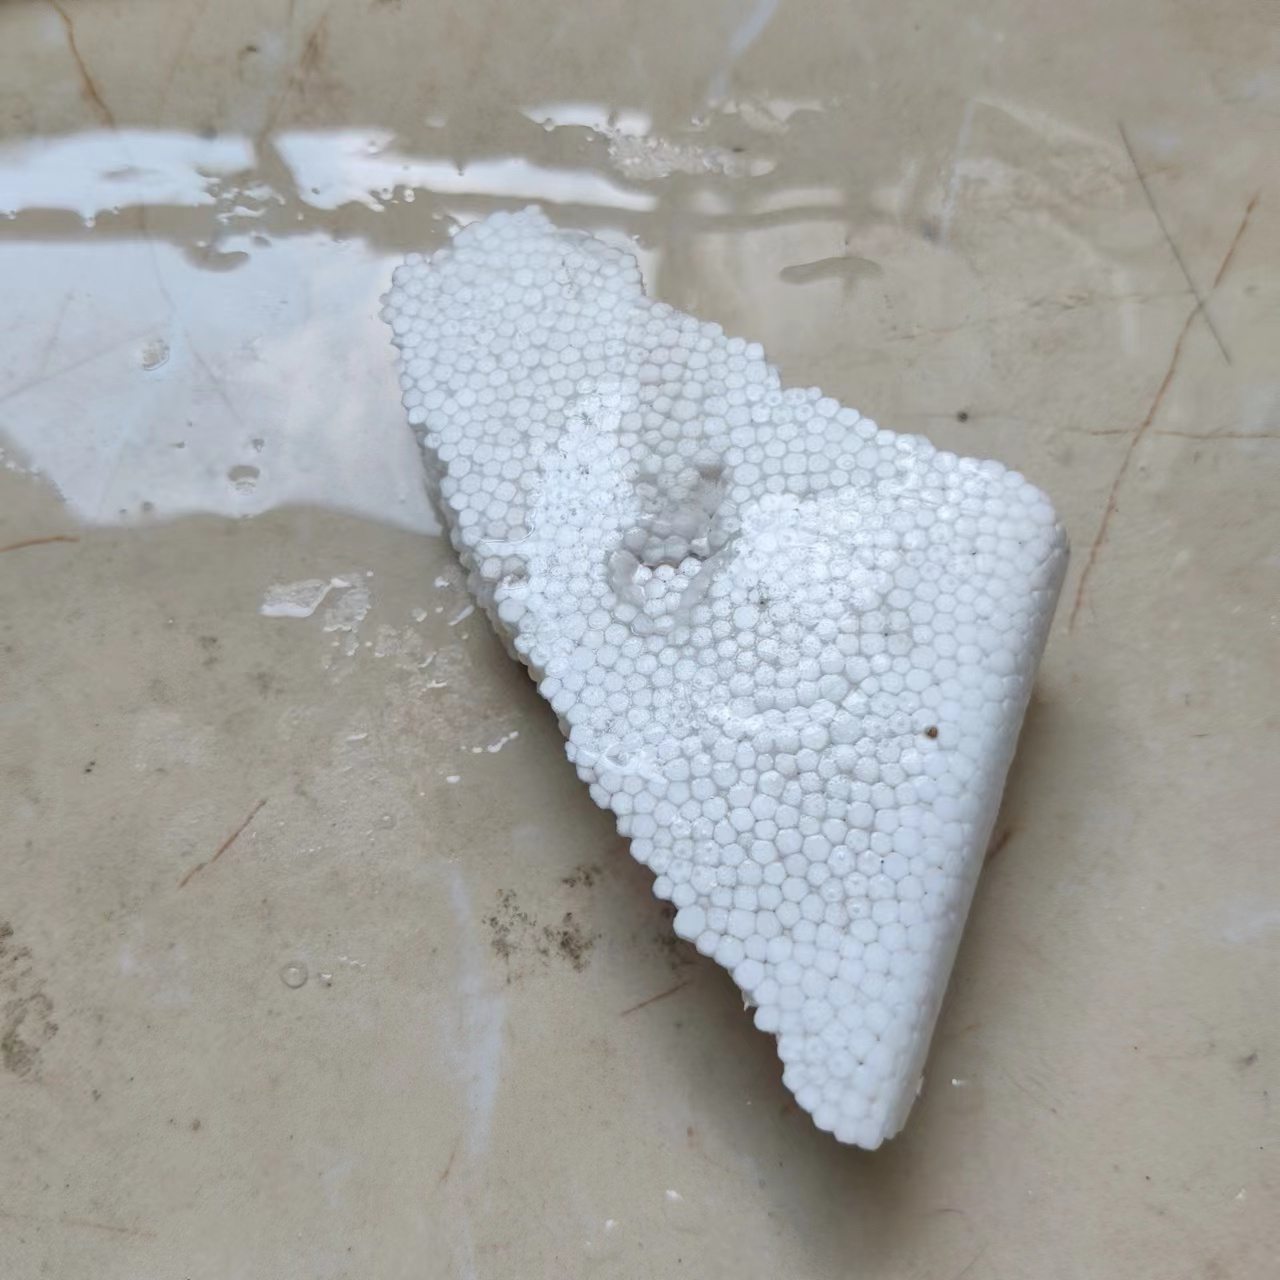5/可回收垃圾/泡沫: (377, 200, 1070, 1151)
